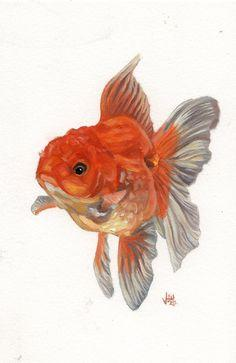goldfish: (19, 105, 221, 274)
